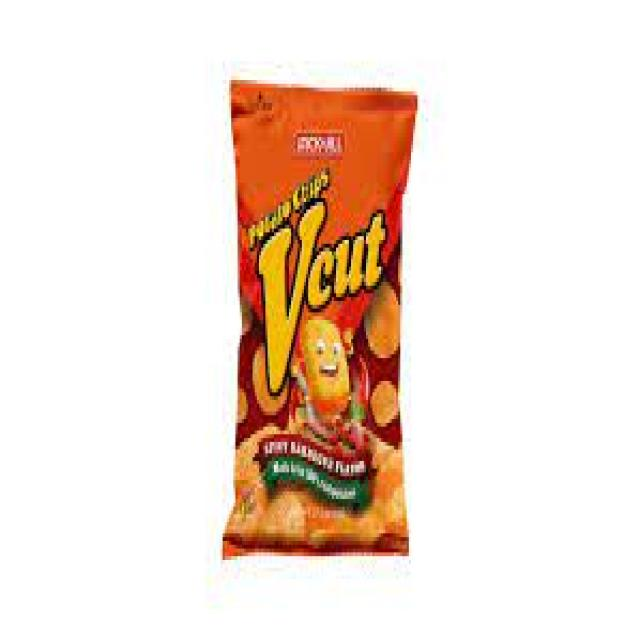junkfood wrapper: (224, 83, 416, 555)
